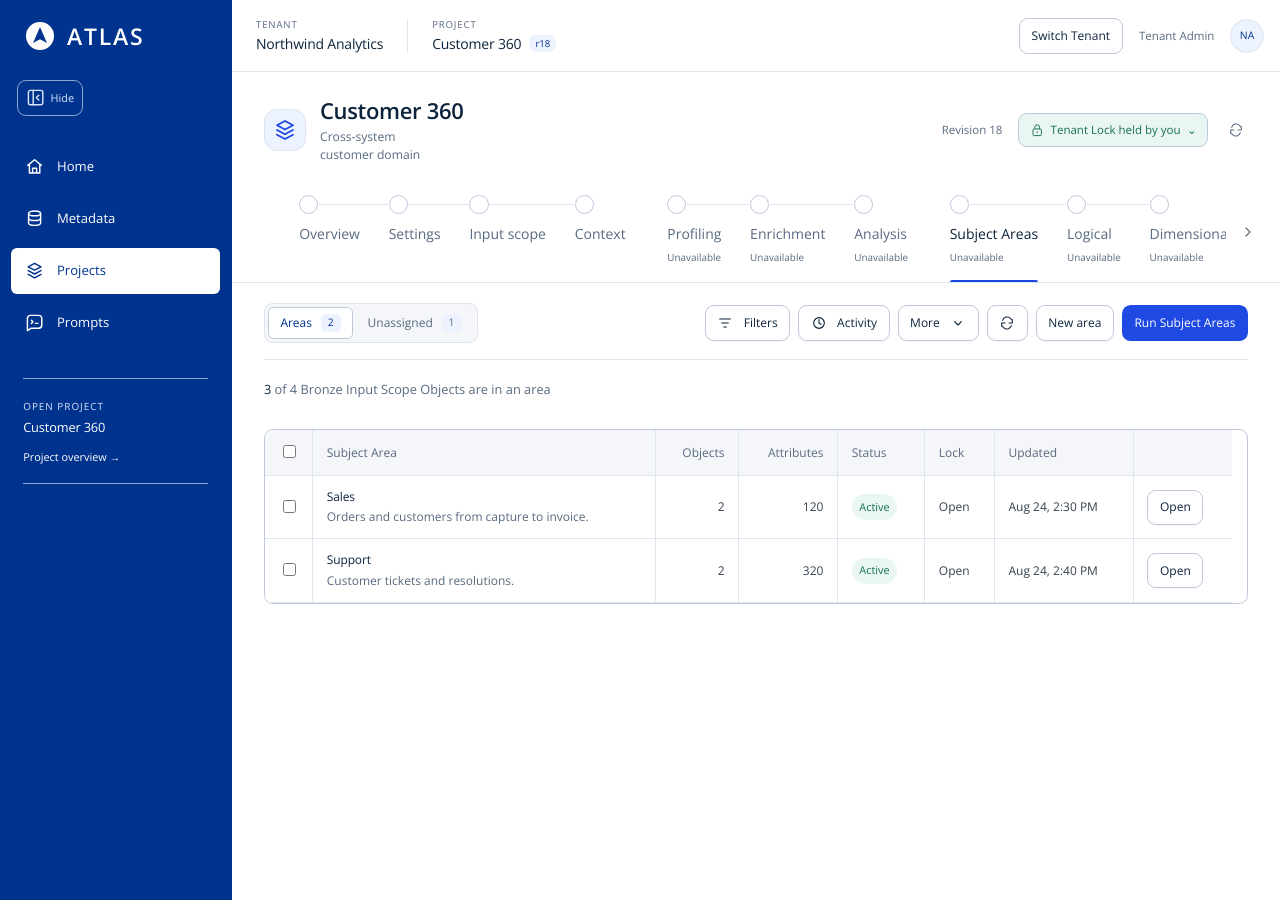
Test: Project Subject Areas › creates an area with Objects chosen from the Input Scope
The image size is (1280, 900).
Check: the table named "Subject Areas" is shown, box x1=265 y1=430 x2=1232 y2=603
Click the button "New area" at (1075, 323), box x1=1036 y1=305 x2=1114 y2=341
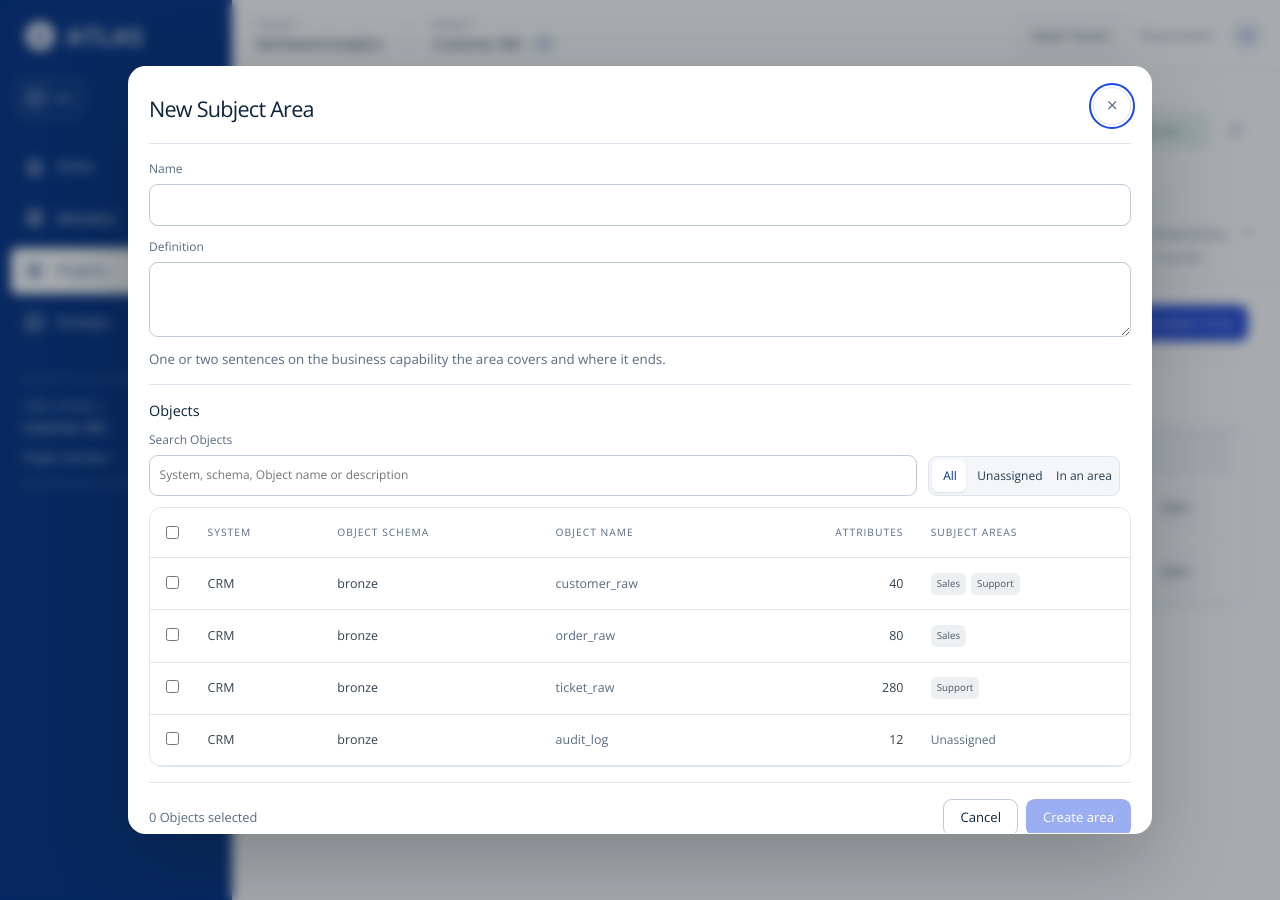
Type " Billing " into the field labelled "Name" at (640, 205), box x1=149 y1=184 x2=1131 y2=226
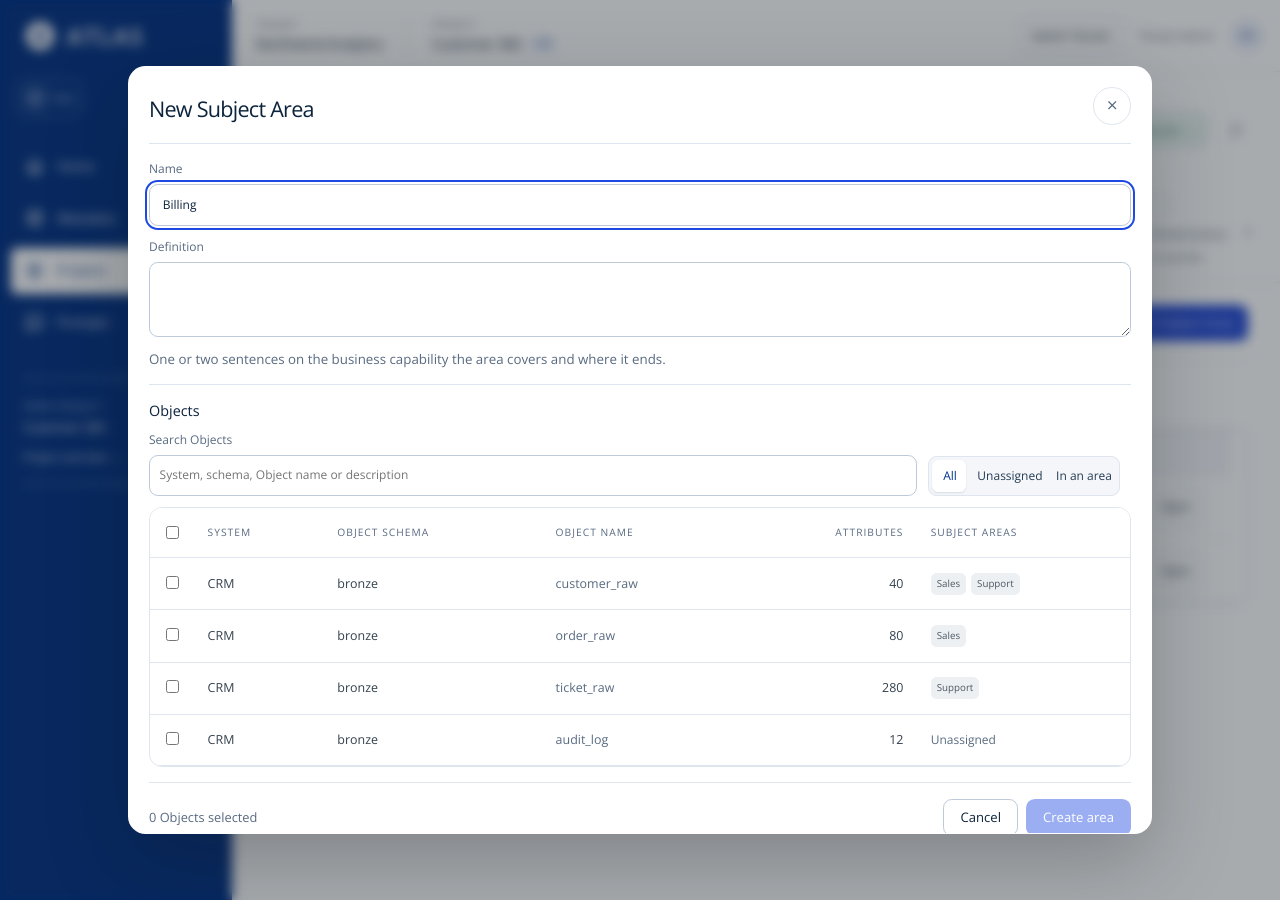
Type "Invoices and payments." into the text box labelled "Definition" at (640, 300), box x1=149 y1=262 x2=1131 y2=337
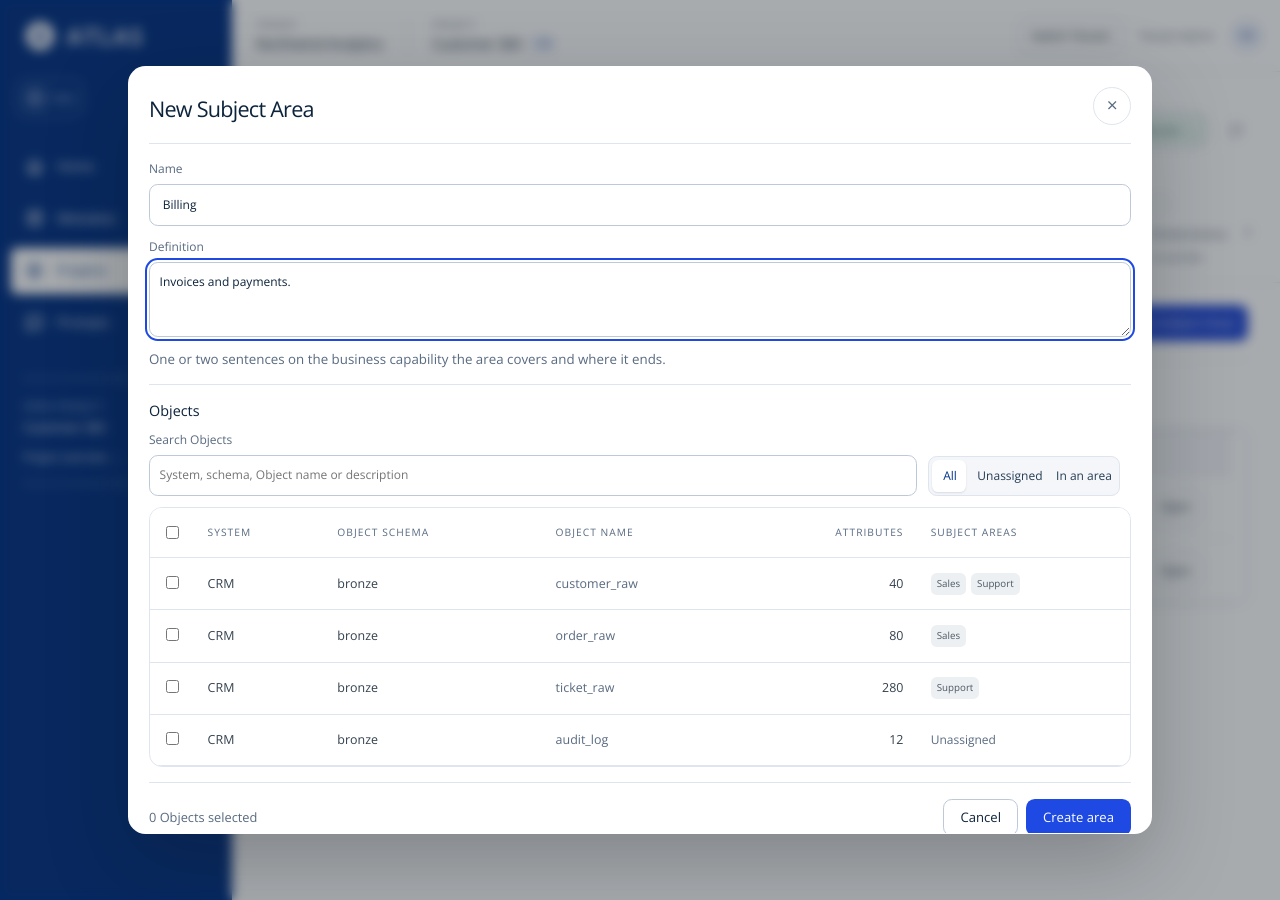
Check: the column headings read "", "System", "Object schema", "Object name", "Attributes", "Subject Areas", in this order, box x1=150 y1=508 x2=194 y2=558; x1=194 y1=508 x2=324 y2=558; x1=324 y1=508 x2=542 y2=558; x1=542 y1=508 x2=742 y2=558; x1=742 y1=508 x2=917 y2=558; x1=917 y1=508 x2=1130 y2=558
Type "order" into the search field labelled "Search Objects" at (533, 475), box x1=149 y1=454 x2=917 y2=496
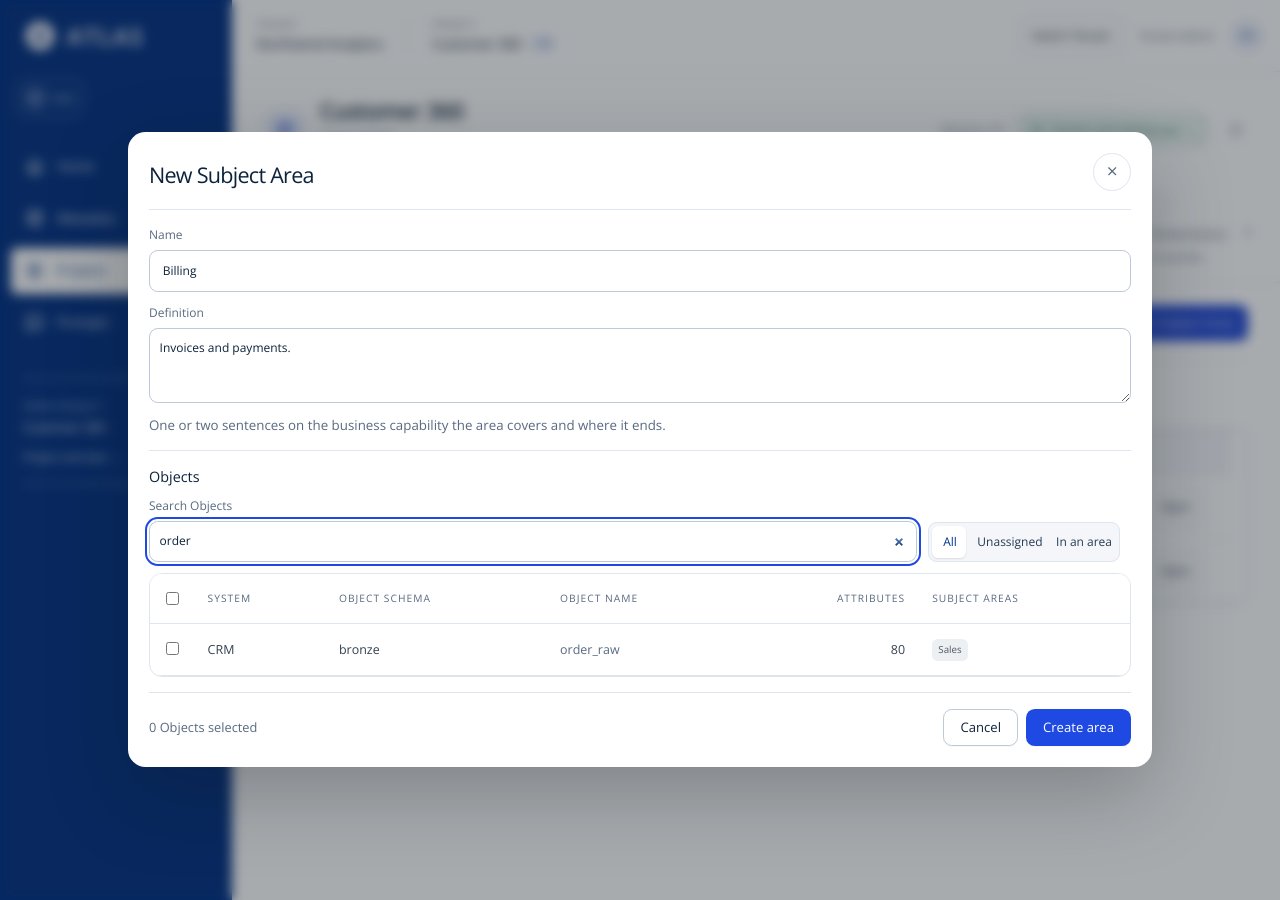
Click the checkbox named "Choose bronze.order_raw" at (172, 649), box x1=166 y1=642 x2=179 y2=655
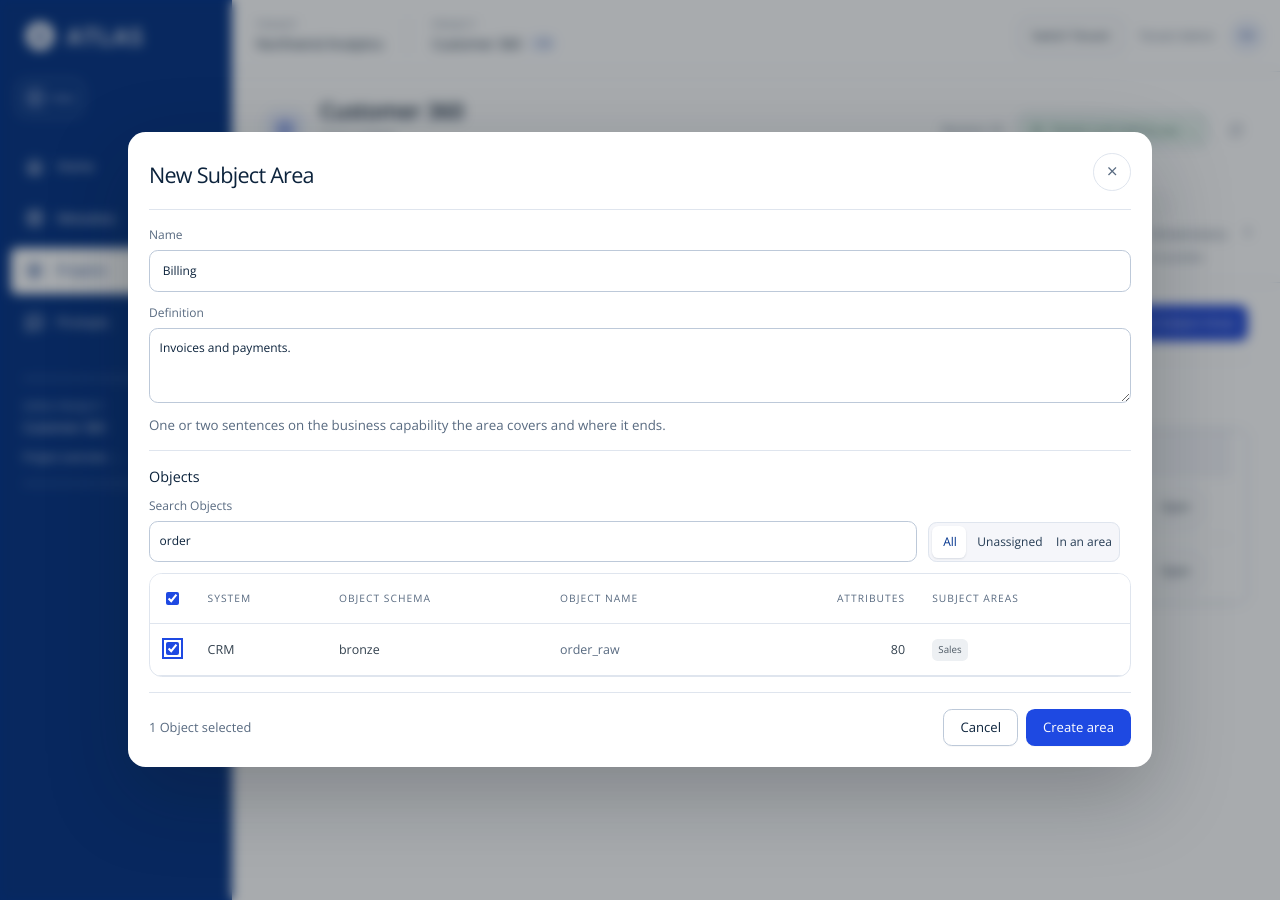
Check: the text "1 Object selected" is shown, box x1=149 y1=718 x2=251 y2=738
Click the button "Create area" at (1078, 728), box x1=1026 y1=709 x2=1131 y2=747
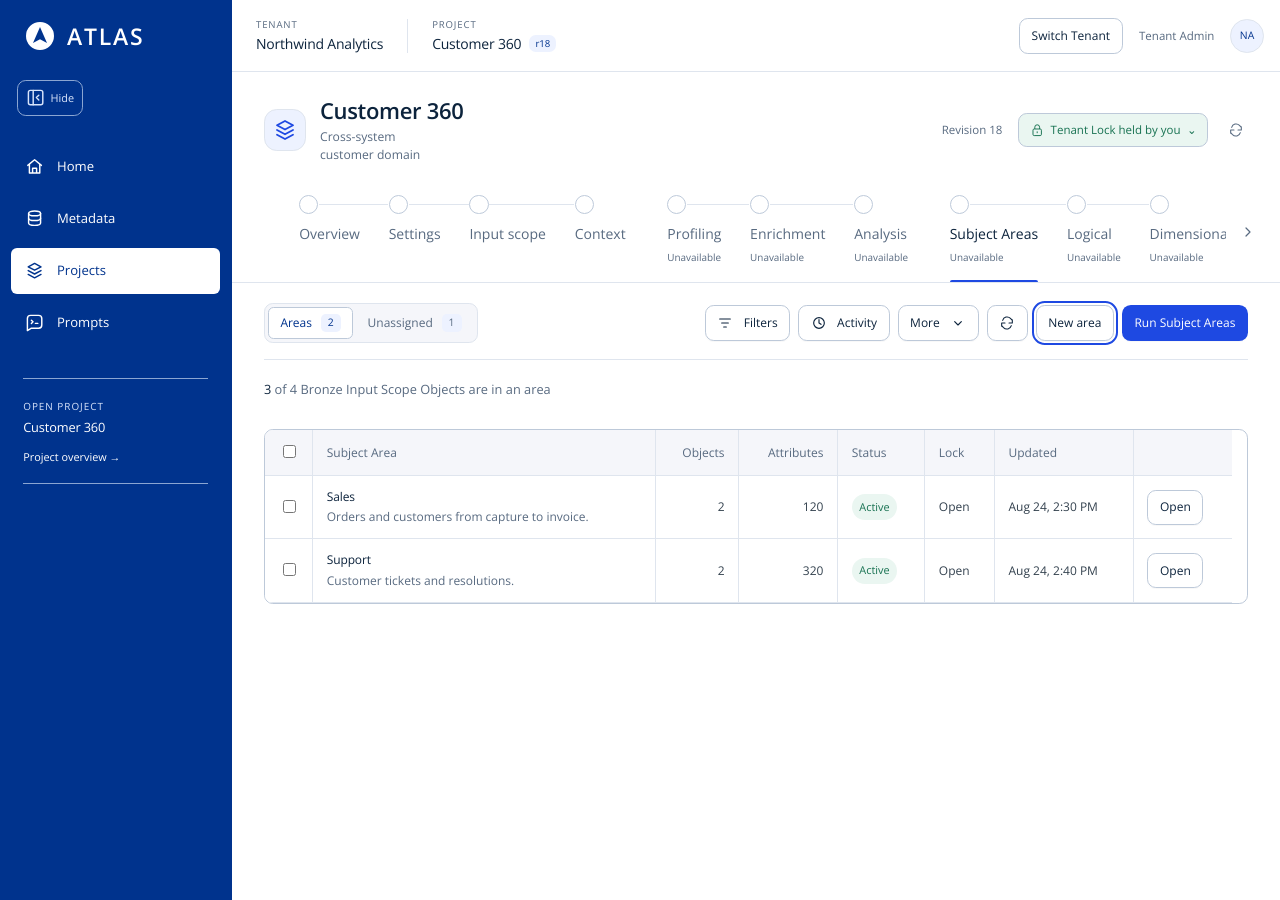
Check: the heading "New Subject Area" is gone
